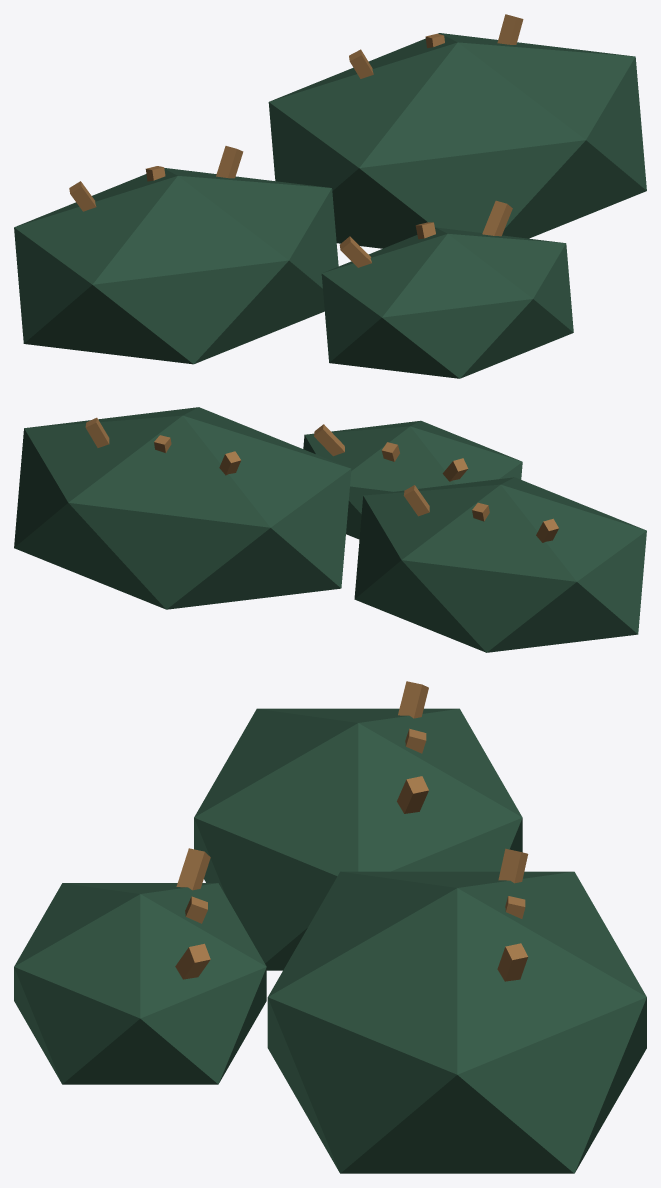
The model's file is Desert_DryBrushCluster_Standard.glb.
The picture shows the model from 3 angles, top to bottom: view 1: azimuth 30°, elevation 25°; view 2: azimuth 150°, elevation 25°; view 3: azimuth 270°, elevation 25°; orthographic projection. The views are drawn at different scales.
Parts seen in each view (by area): view 1: Desert_DryBrushCluster_Standard; view 2: Desert_DryBrushCluster_Standard; view 3: Desert_DryBrushCluster_Standard.
Boxes of the visible parts, x1,y1,x2,y2 form: Desert_DryBrushCluster_Standard: [14, 14, 646, 378]; Desert_DryBrushCluster_Standard: [14, 407, 646, 652]; Desert_DryBrushCluster_Standard: [14, 681, 646, 1173].
Bounding box in the file's own units: 2.45 × 0.75 × 1.6.
